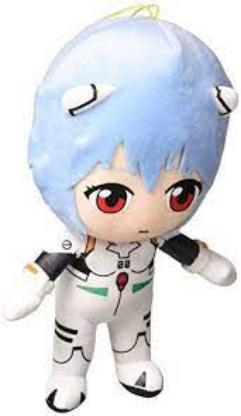rei-plush: (0, 5, 239, 415)
